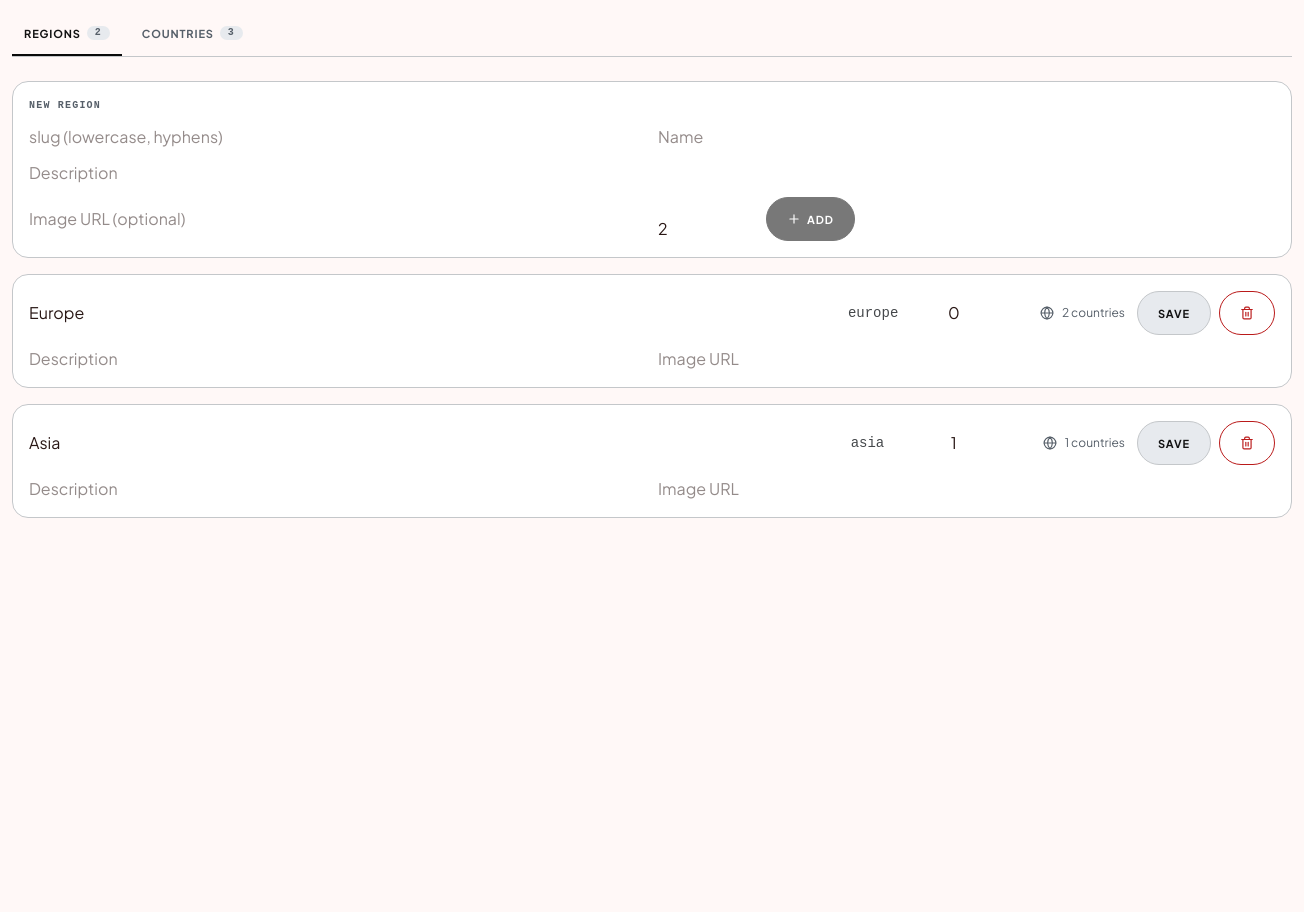
Test: RegionManager › clears filters
Click the button "Countries 3": (192, 34) [130,12,255,56]
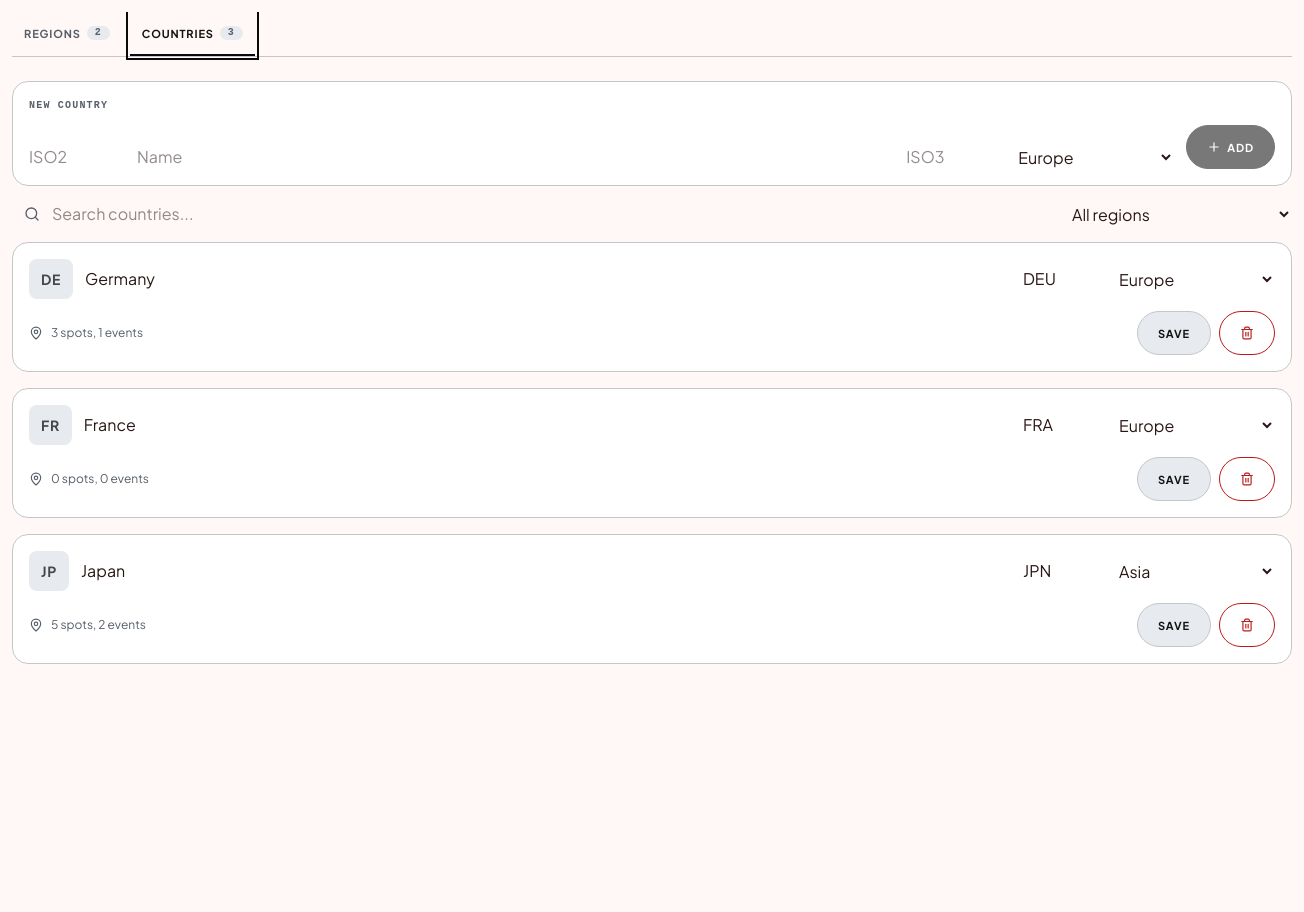
In the search field labelled "Search countries": (534, 214) [12,202,1056,226], type "jp"
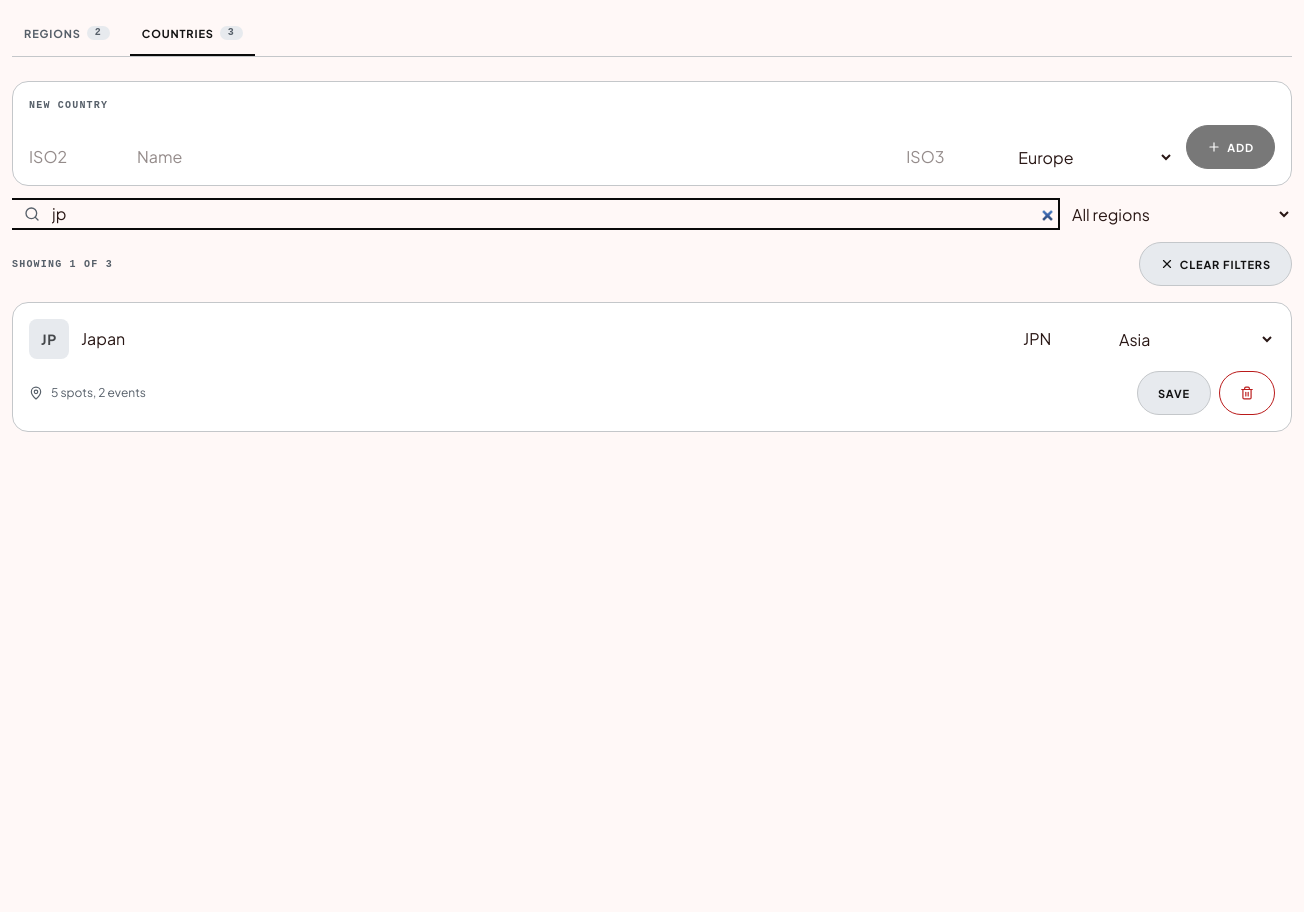
Expected: the field showing "Germany" is not shown
Click the button "Clear filters": (1215, 264) [1139,242,1292,286]
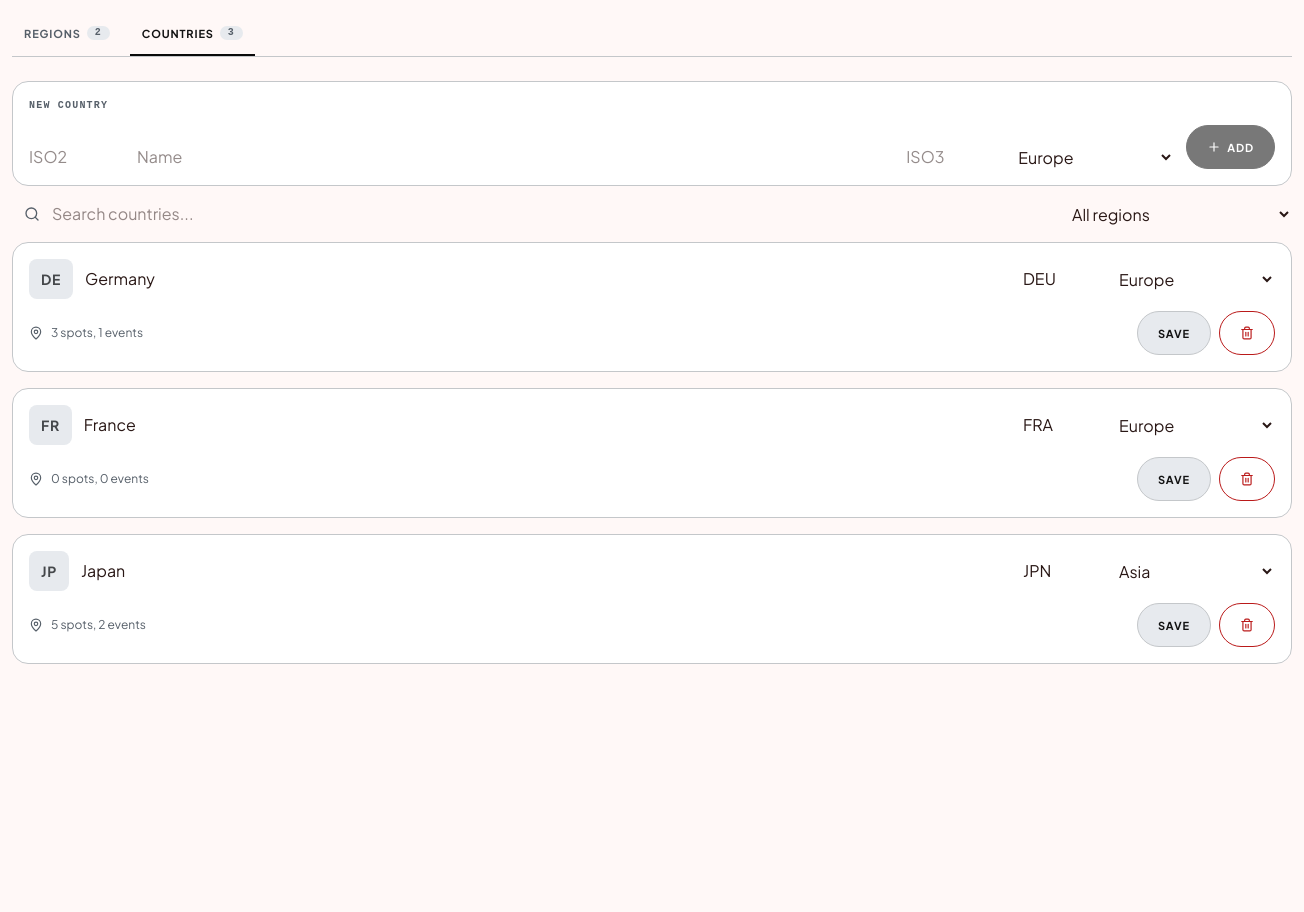
Result: the field showing "Japan" is shown at [81,559,1011,583]
Result: the search field labelled "Search countries" is empty at [12,202,1056,226]
Result: the field showing "Germany" is shown at [85,267,1011,291]
